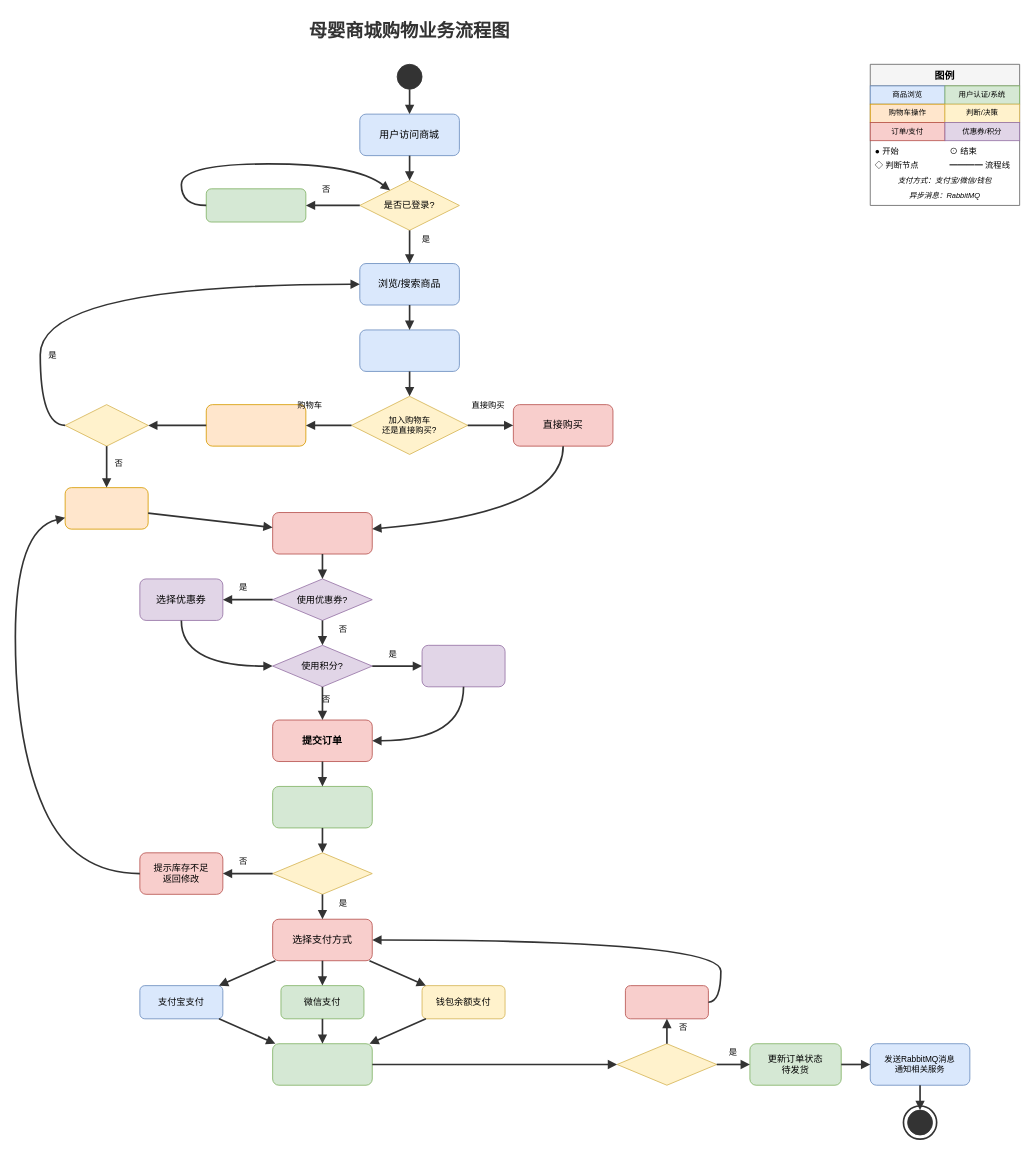
Image size: 1034x1154. Some labels were removed from this diagram. The centre of each missing label's shape, as x and y in pixels:
"加入购物车" goes at (x=255, y=425).
"库存充足?" goes at (x=322, y=873).
"支付失败 可重试" goes at (x=666, y=1002).
"支付成功?" goes at (x=666, y=1064).
"查看商品详情" goes at (x=409, y=350).
"查看购物车 选择商品" goes at (x=106, y=508).
"用户登录/注册" goes at (x=255, y=205).
"系统验证库存 创建订单" goes at (x=322, y=807).
"继续购物?" goes at (x=106, y=425).
"调用第三方/内部 支付接口" goes at (x=322, y=1064).
"输入使用积分" goes at (x=463, y=665).
"选择收货地址" goes at (x=322, y=533).
